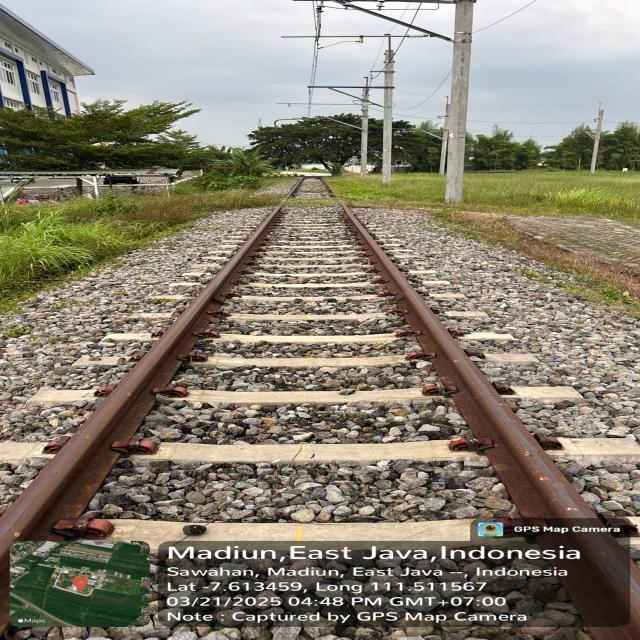rail-detection: (343, 206, 638, 640), (0, 206, 279, 566)
